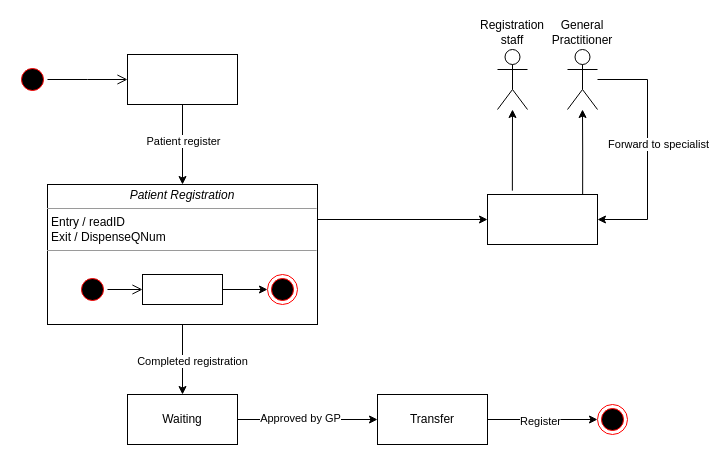
Some shapes in this 726 by 462 pixel diagram are drawn without their labels. Each missing label, with the box of its shape:
ID Verification: (142, 274, 222, 304)
Idle: (126, 54, 238, 104)
Review: (486, 194, 598, 244)
